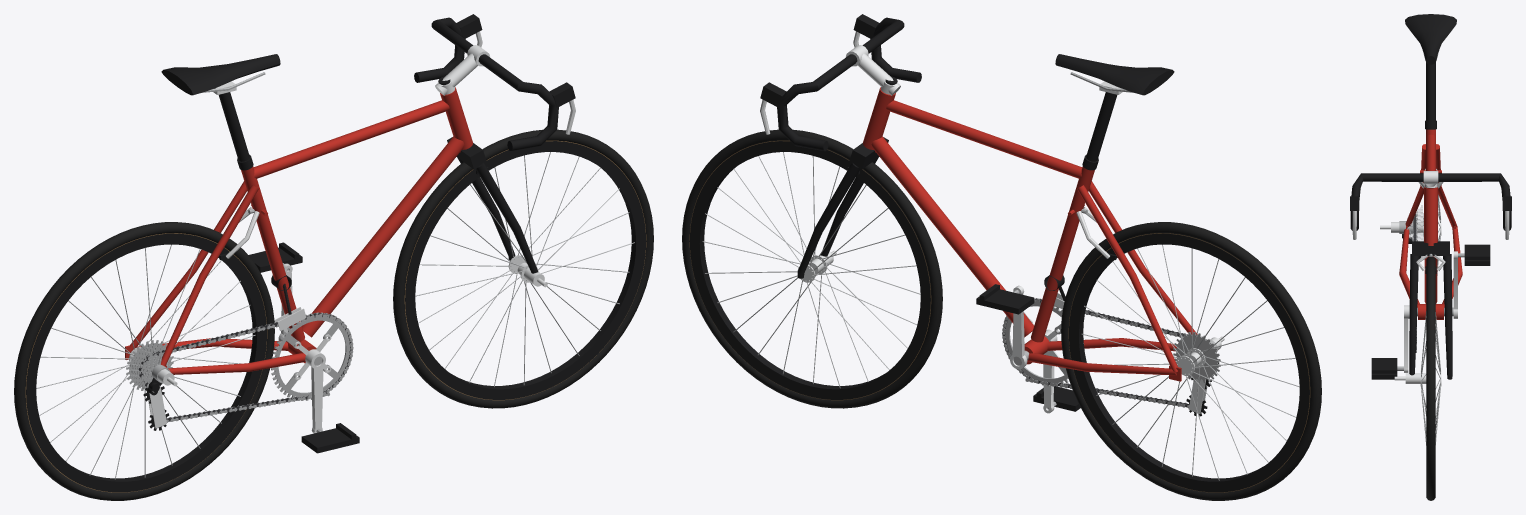
3 views of the same model, side by side, from view 1: azimuth 30°, elevation 25°; view 2: azimuth 150°, elevation 25°; view 3: azimuth 270°, elevation 25° (orthographic). The views are drawn at different scales.
Parts seen in each view (by area): view 1: front_wheel, rear_wheel, frame, handlebar, fork, saddle, chain, chainring, crank, cassette, pedal_r, seatpost (+2 smaller); view 2: rear_wheel, front_wheel, frame, handlebar, fork, saddle, crank, chain, cassette, pedal_l, seatpost, stem (+1 smaller); view 3: frame, front_wheel, fork, handlebar, saddle, crank, pedal_l, pedal_r, seatpost, rear_wheel, cassette, stem (+1 smaller).
Boxes of the visible parts, <box> form: front_wheel: <box>393,129,653,408</box>; rear_wheel: <box>14,222,274,500</box>; frame: <box>125,87,472,374</box>; handlebar: <box>414,14,575,150</box>; fork: <box>438,76,538,273</box>; saddle: <box>161,54,280,95</box>; chain: <box>138,312,353,422</box>; chainring: <box>271,312,353,400</box>; crank: <box>278,263,331,433</box>; cassette: <box>126,340,173,390</box>; pedal_r: <box>301,423,359,453</box>; seatpost: <box>213,81,249,161</box>; rear_wheel: <box>1061,222,1321,500</box>; front_wheel: <box>682,129,942,408</box>; frame: <box>863,87,1197,381</box>; handlebar: <box>760,14,921,151</box>; fork: <box>797,76,897,278</box>; saddle: <box>1055,54,1174,95</box>; crank: <box>1010,285,1060,413</box>; chain: <box>1002,298,1214,408</box>; cassette: <box>1173,332,1220,382</box>; pedal_l: <box>976,284,1034,314</box>; seatpost: <box>1086,81,1122,161</box>; stem: <box>845,45,900,95</box>; frame: <box>1399,120,1462,319</box>; front_wheel: <box>1394,257,1441,500</box>; fork: <box>1409,184,1452,379</box>; handlebar: <box>1350,173,1511,239</box>; saddle: <box>1405,14,1456,64</box>; crank: <box>1404,251,1457,372</box>; pedal_l: <box>1458,244,1490,265</box>; pedal_r: <box>1371,358,1403,379</box>; seatpost: <box>1426,62,1435,121</box>; rear_wheel: <box>1380,194,1441,275</box>; cassette: <box>1399,205,1422,241</box>; stem: <box>1423,171,1438,186</box>.
Bounding box in the file's own units: 1.66 × 1.03 × 0.446.
